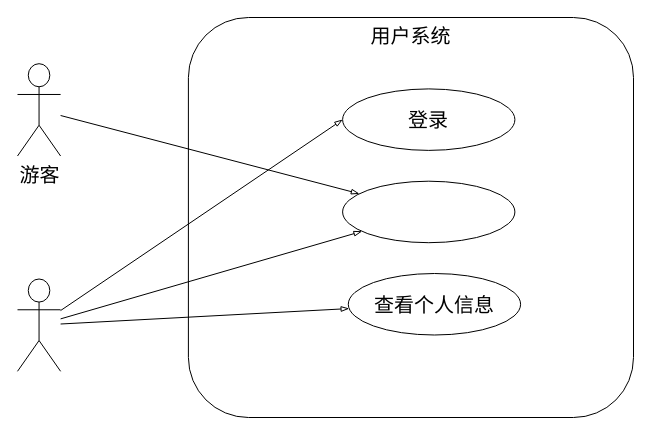
The diagram is 651 pixels wide and 435 high, and some of its shapes have lost their labels. Here are the shapes that lost their labels. From the top down, the centre of each, then its label:
point (428, 211): 注册
point (38, 324): 用户
